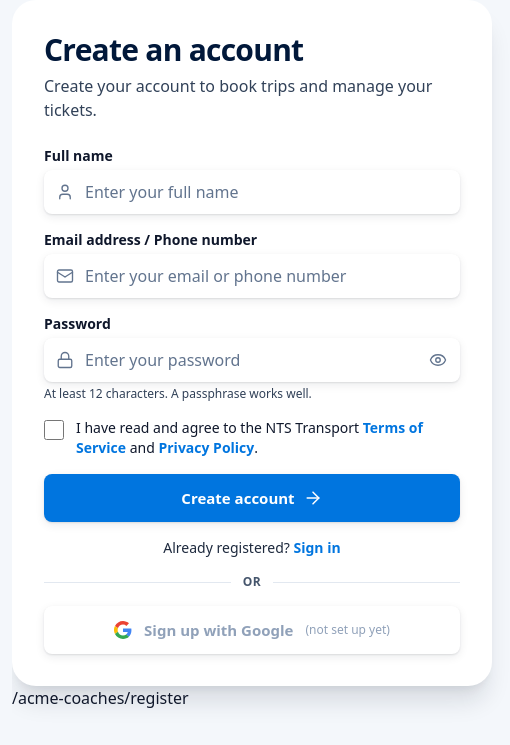
Scenario: Sign up with a phone number › does not create the account until the agreement box is ticked
Type "ada@example.com" into the field labelled "Email address / Phone number" at (252, 276), box [44,254,460,298]
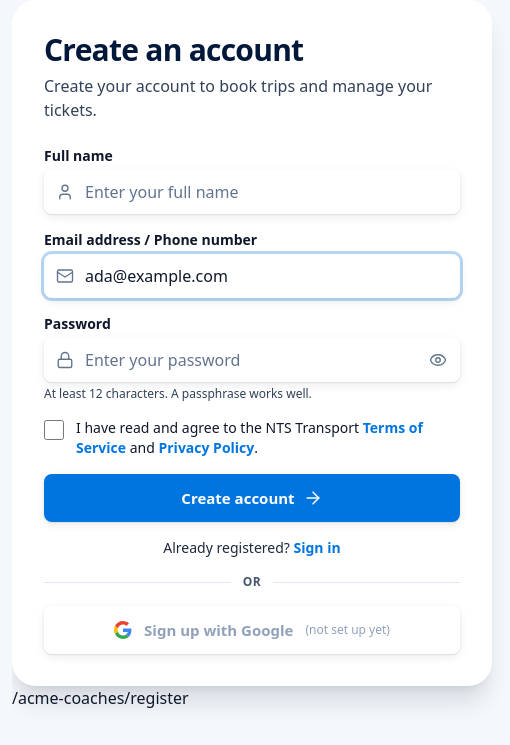
Type "Ada Kamara" into the field labelled "Full name" at (252, 192), box [44,170,460,214]
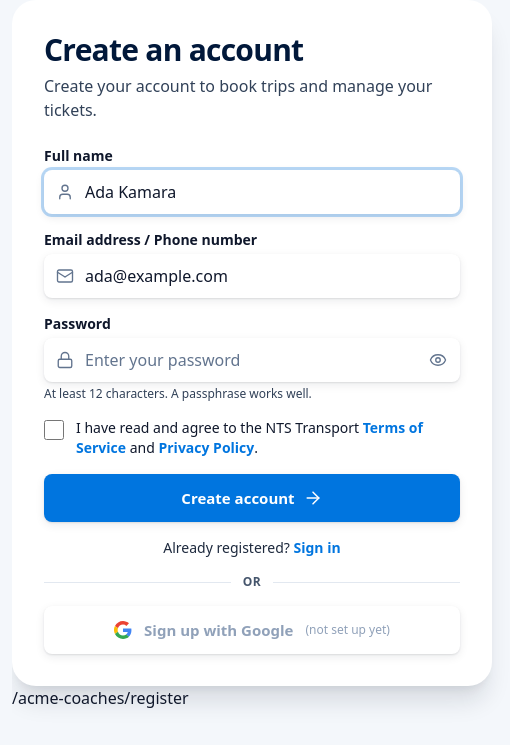
Type "a-long-enough-password" into the password field labelled "Password" at (252, 360), box [44,338,460,382]
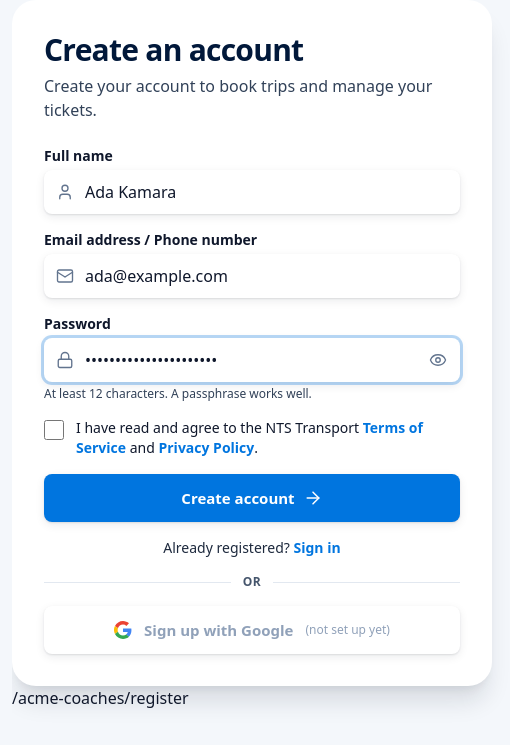
Click the button "Create account" at (252, 498), box [44,474,460,522]
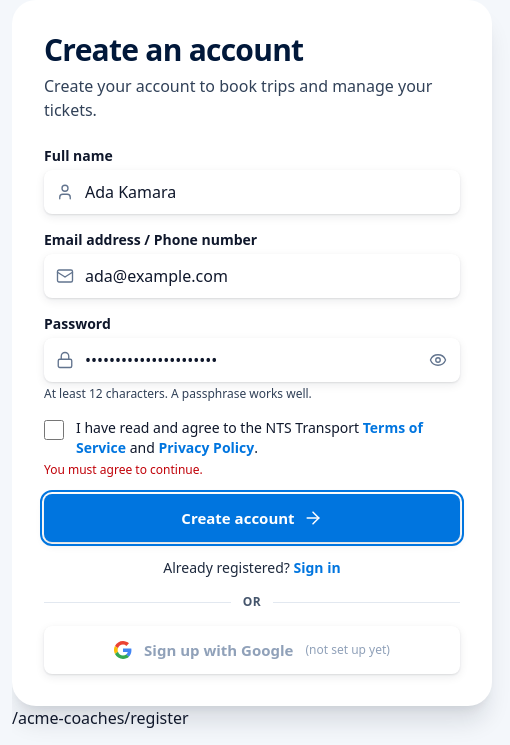
Now the text "You must agree to continue." is shown, box [44,461,203,478]
